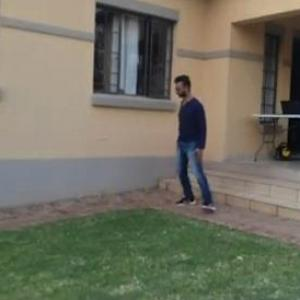follow: (165, 72, 205, 212)
